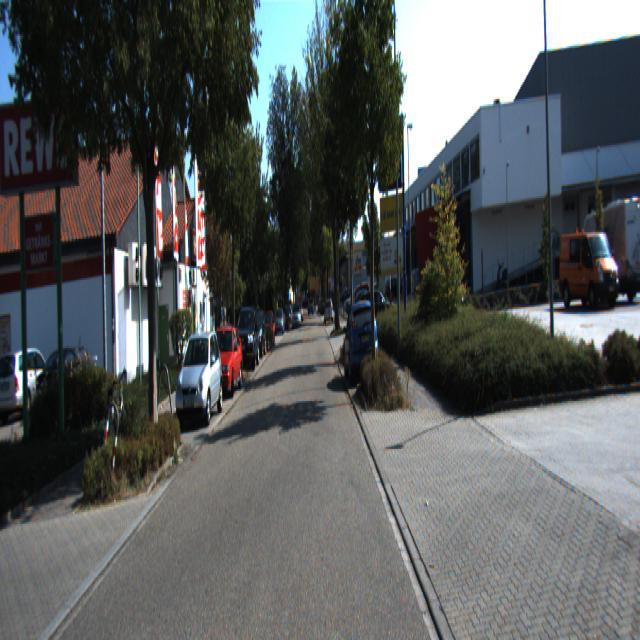Car: (558, 221, 622, 313), (0, 348, 65, 428), (175, 332, 223, 433), (344, 298, 378, 383), (206, 326, 243, 401), (0, 354, 35, 424), (234, 306, 261, 373), (246, 310, 267, 361)
